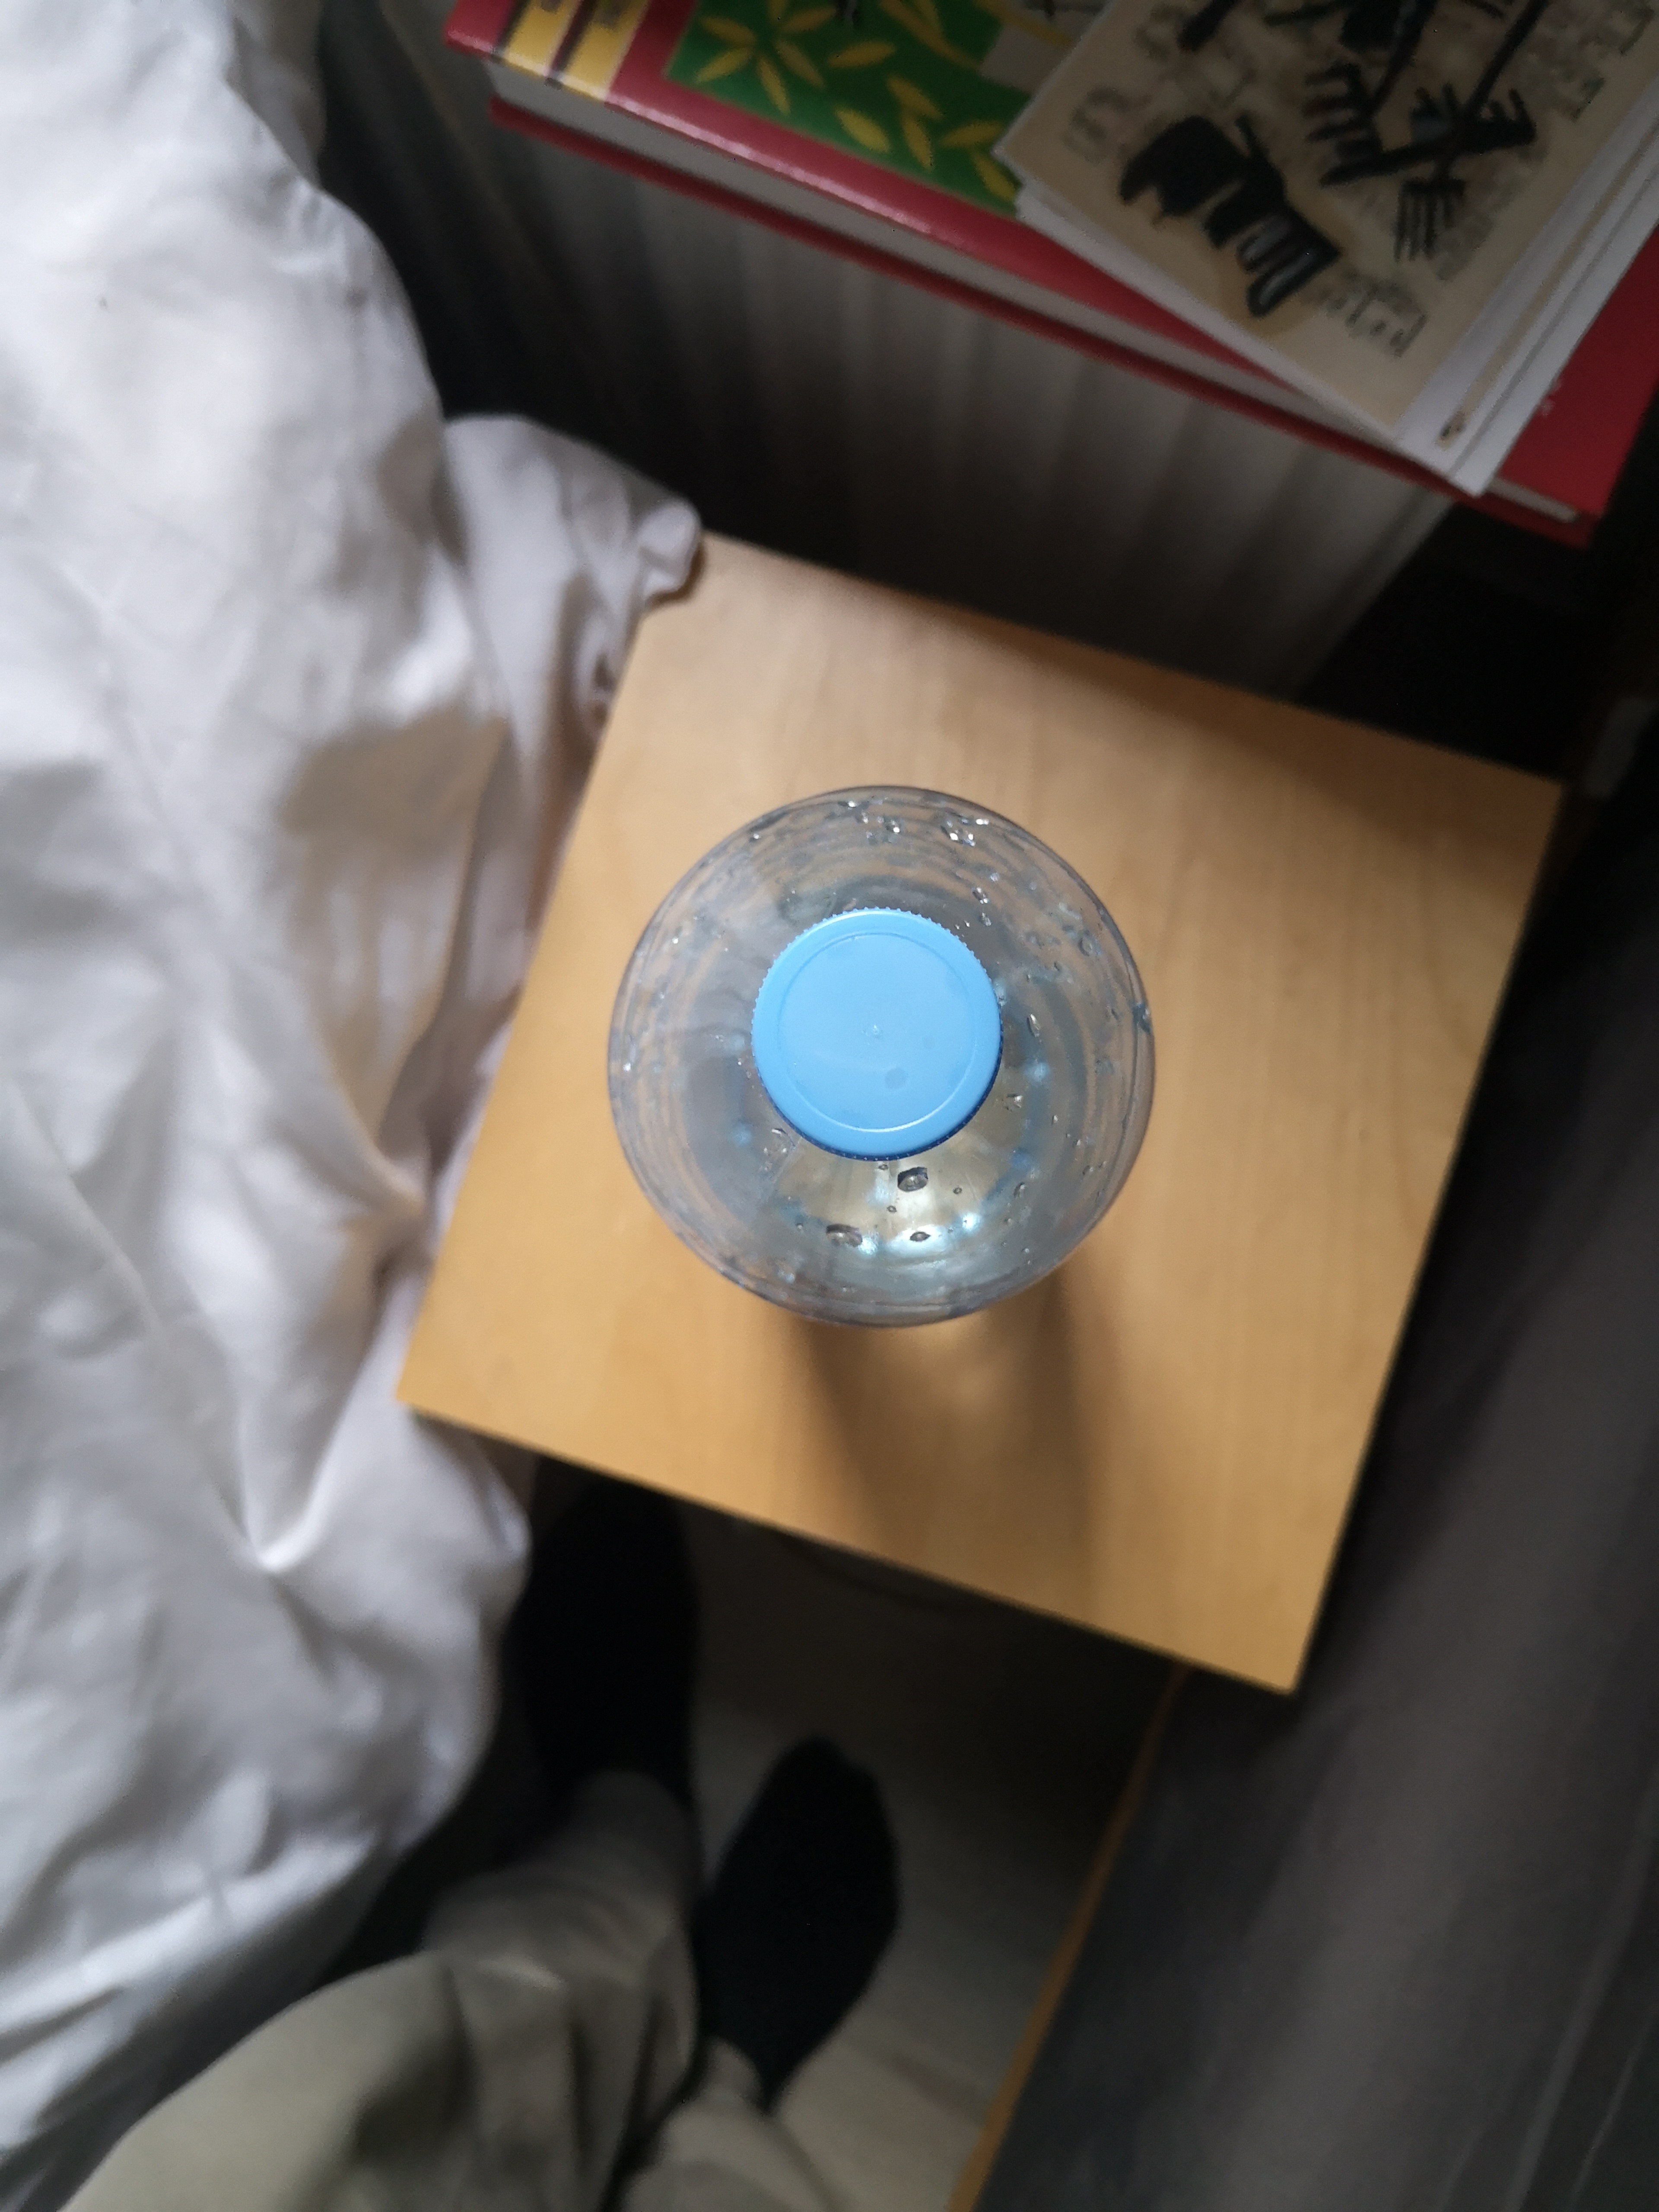plastic_bottle: (596, 738, 1182, 1343)
